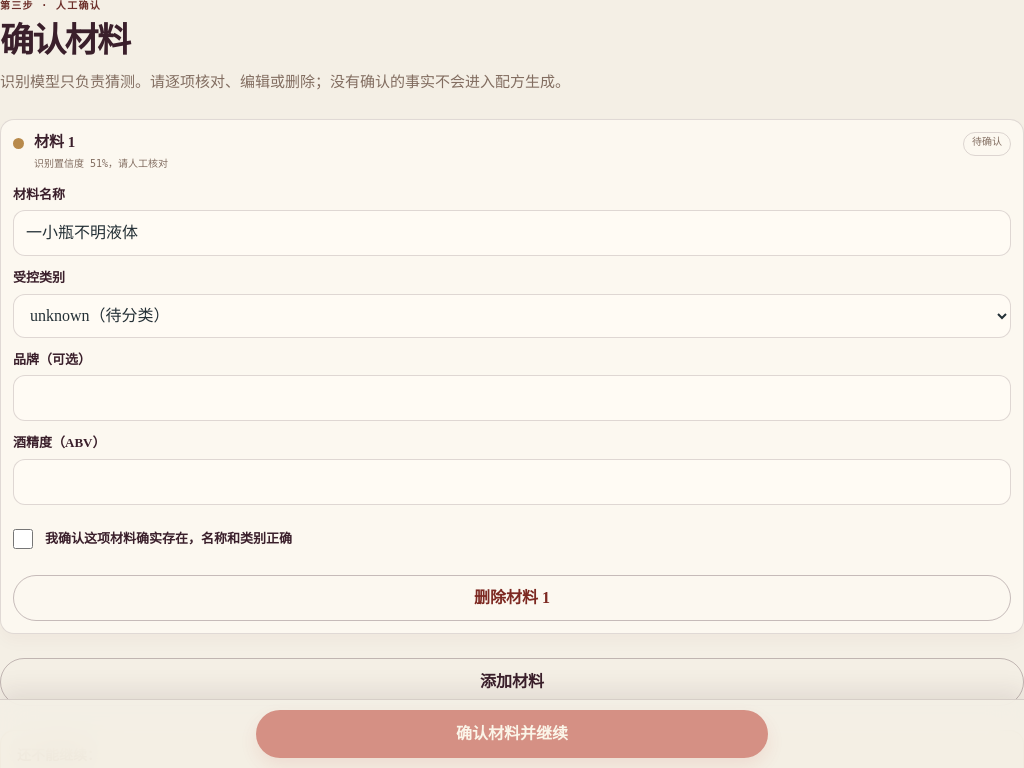
Scenario: IngredientConfirmationScreen › blocks unknown category and shows a separate category explanation
expect the button "确认材料并继续" is disabled: met, box [256,710,768,758]
Select "水果" in the dropdown named "材料 1 类别" at (512, 316), box [13,294,1011,338]
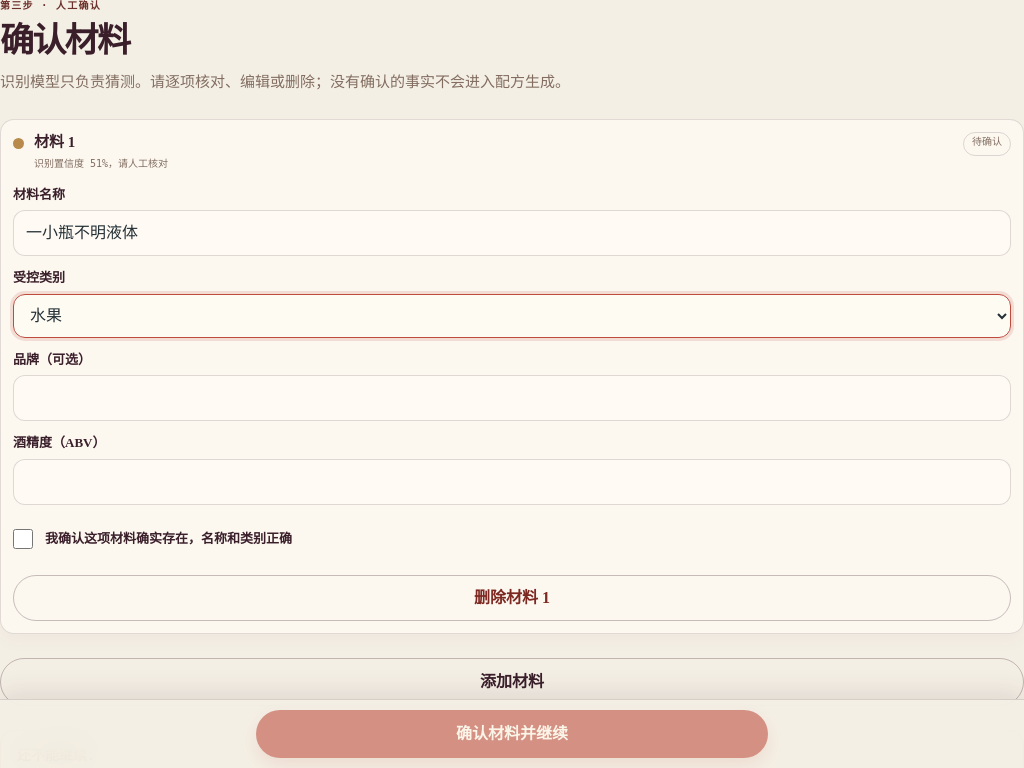
Click the checkbox named "材料 1 已确认".
click(23, 539)  # box [13,529,33,549]
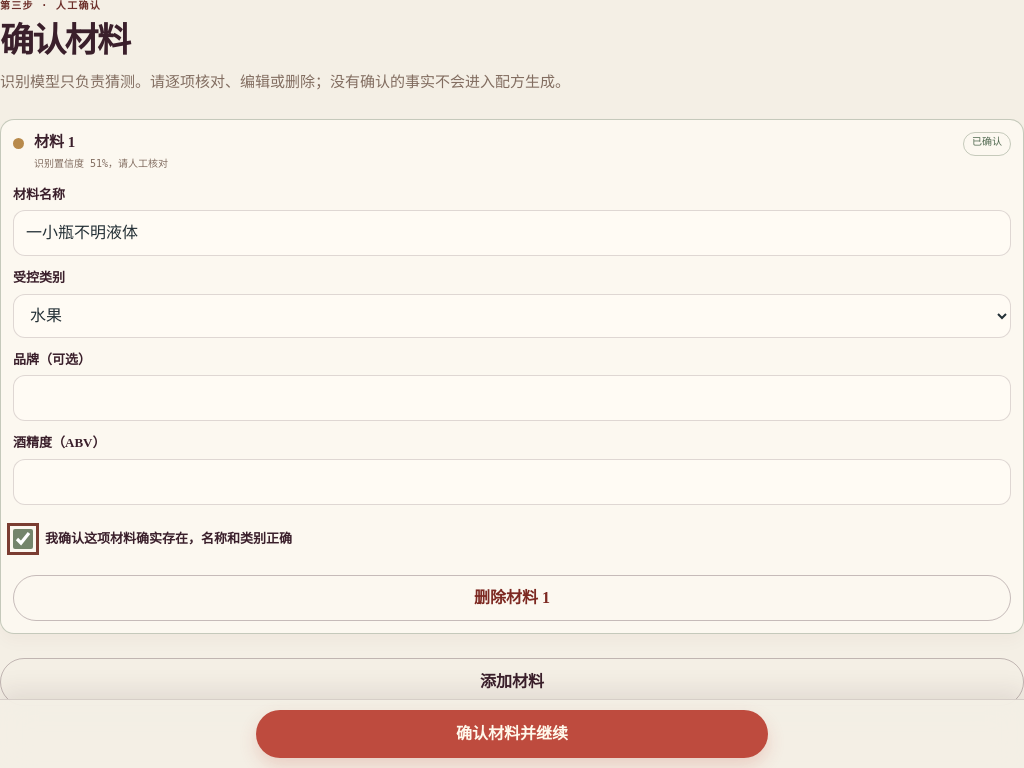
expect the button "确认材料并继续" is enabled: met, box [256,710,768,758]
